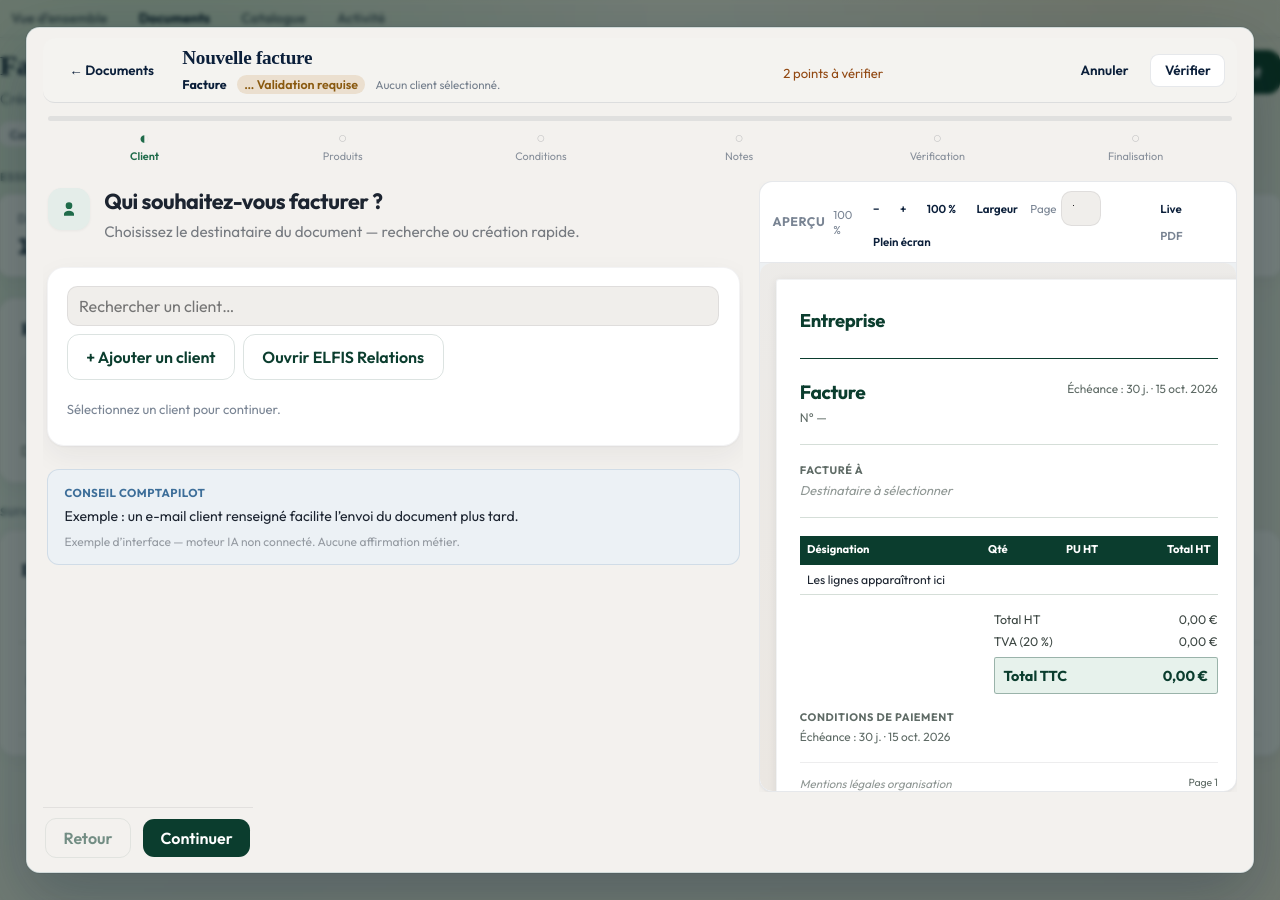
Test: GC11–GC20 Navigation étapes › GC14 — Retour items → client
Click the button "+ Ajouter un client" at (151, 357), box x1=67 y1=334 x2=235 y2=380
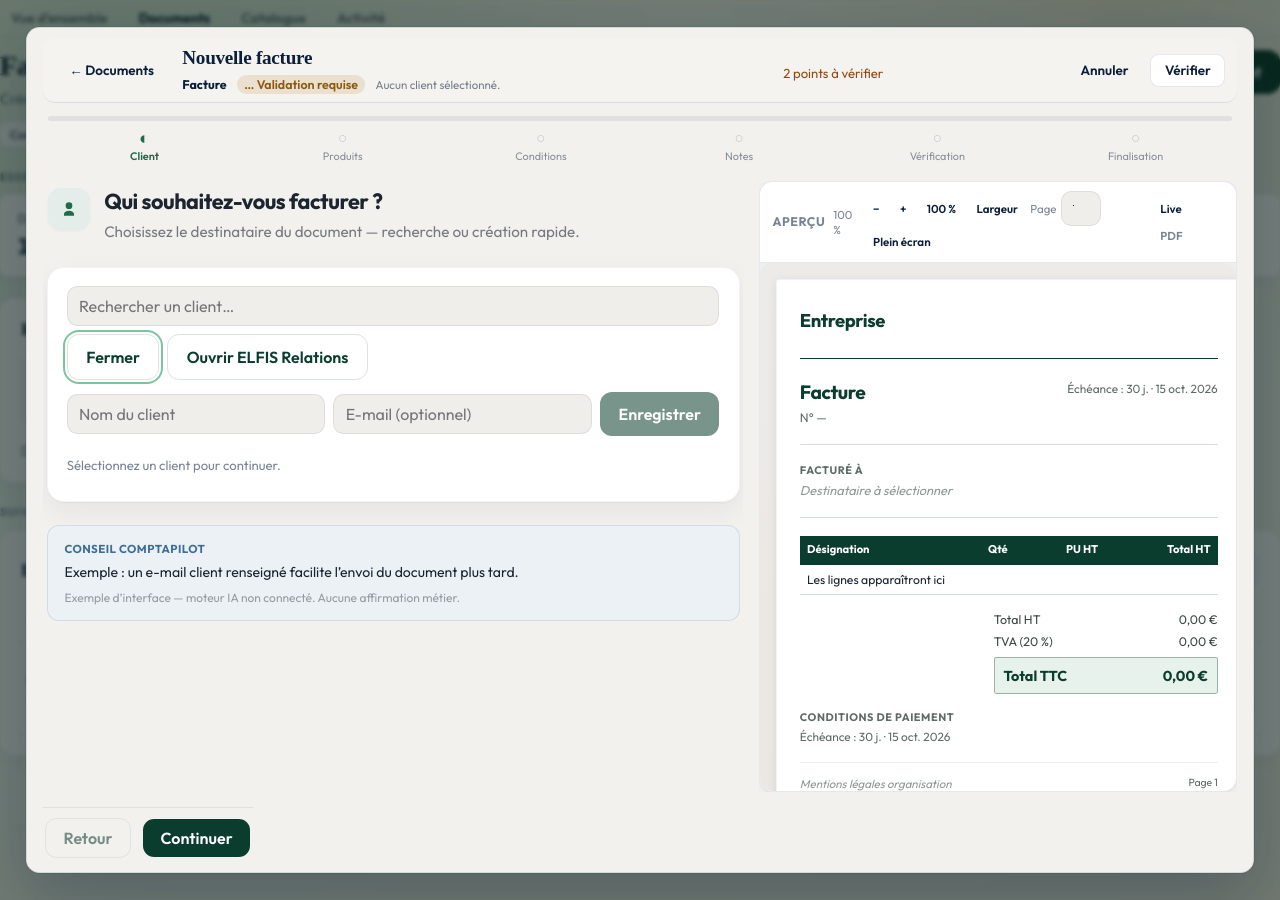
Type "Dupont SAS" into the field named "Nom du nouveau client" at (196, 414), box x1=67 y1=394 x2=326 y2=434
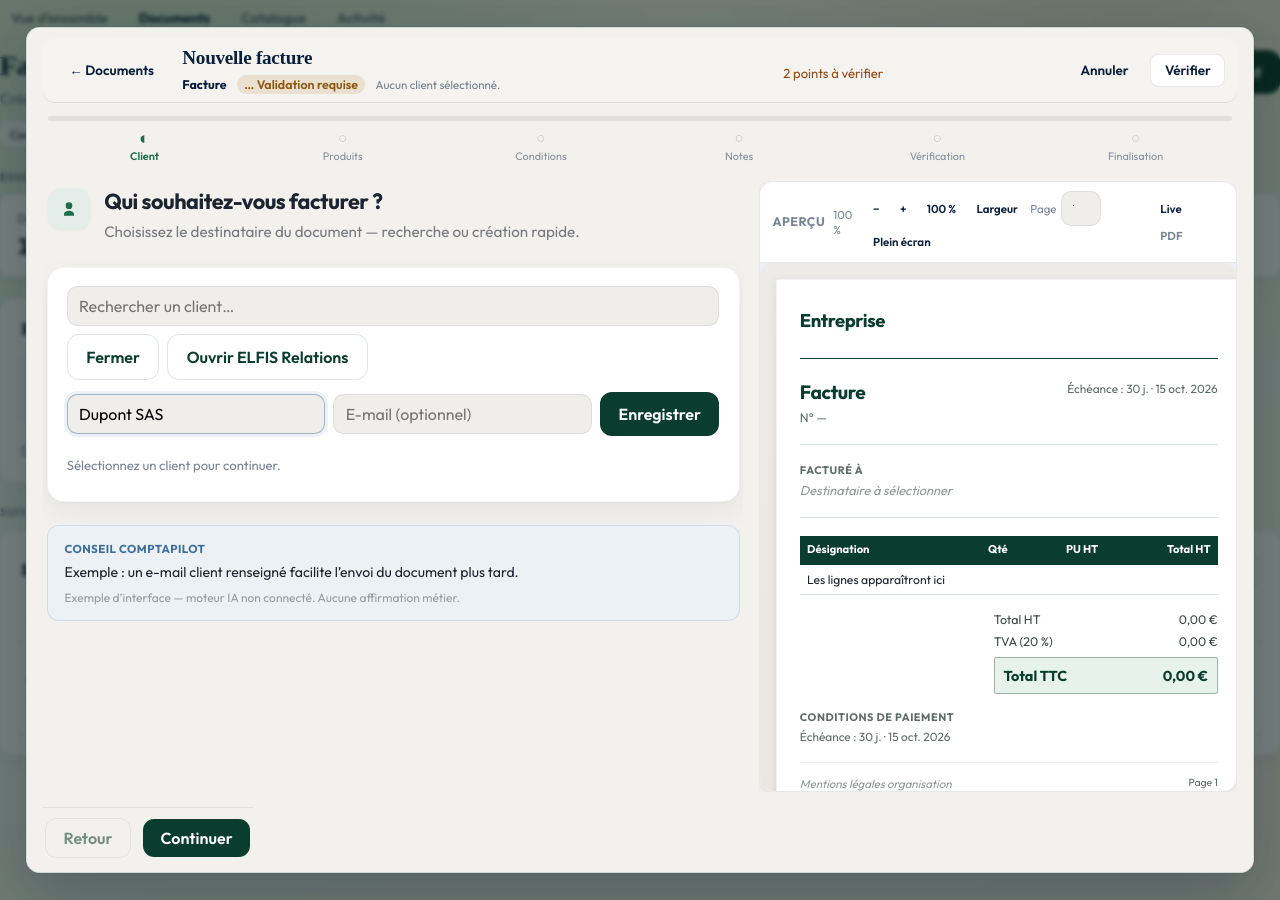
Click the button "Enregistrer" at (660, 414), box x1=600 y1=392 x2=719 y2=436
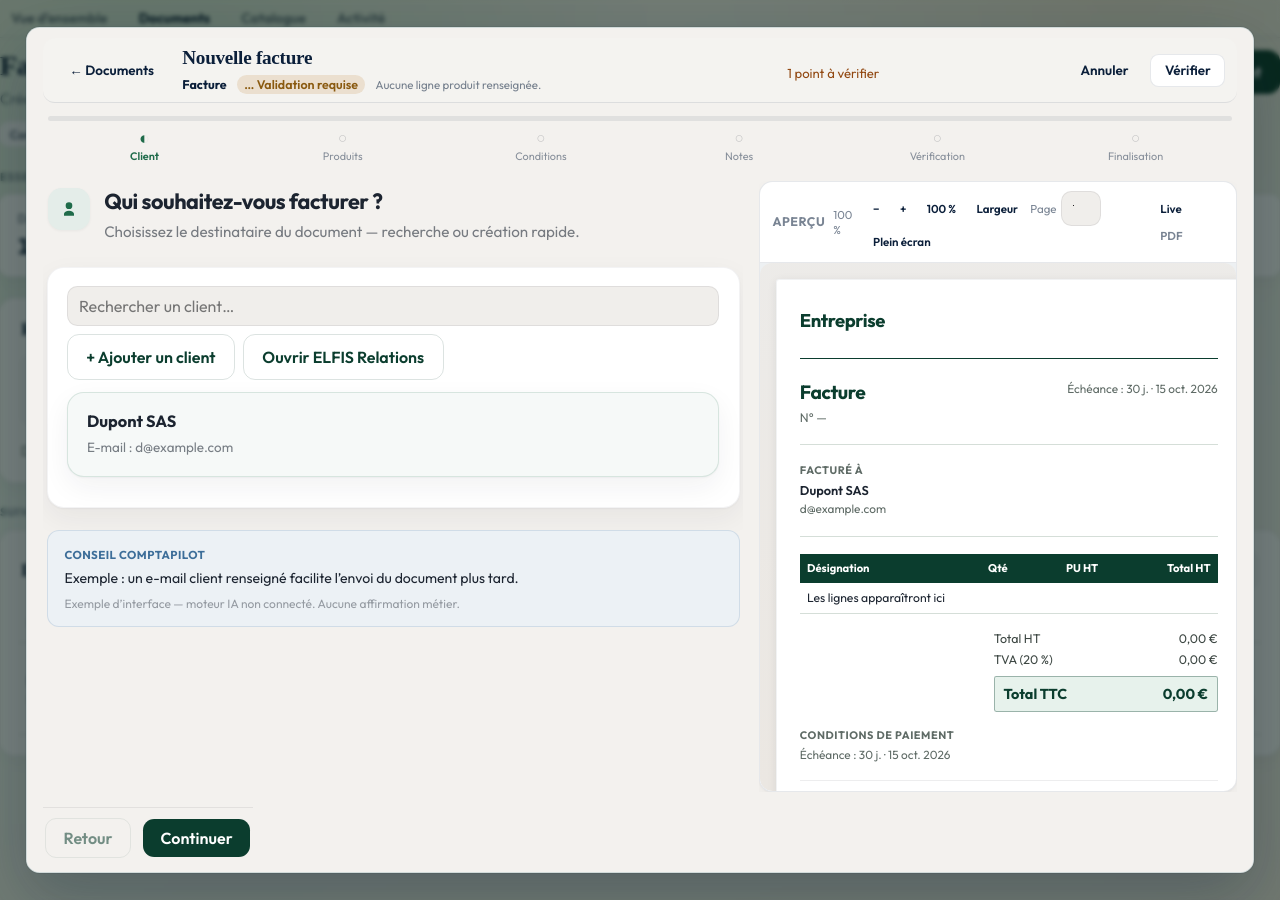
Click the button "Continuer" at (197, 838), box x1=143 y1=819 x2=250 y2=857
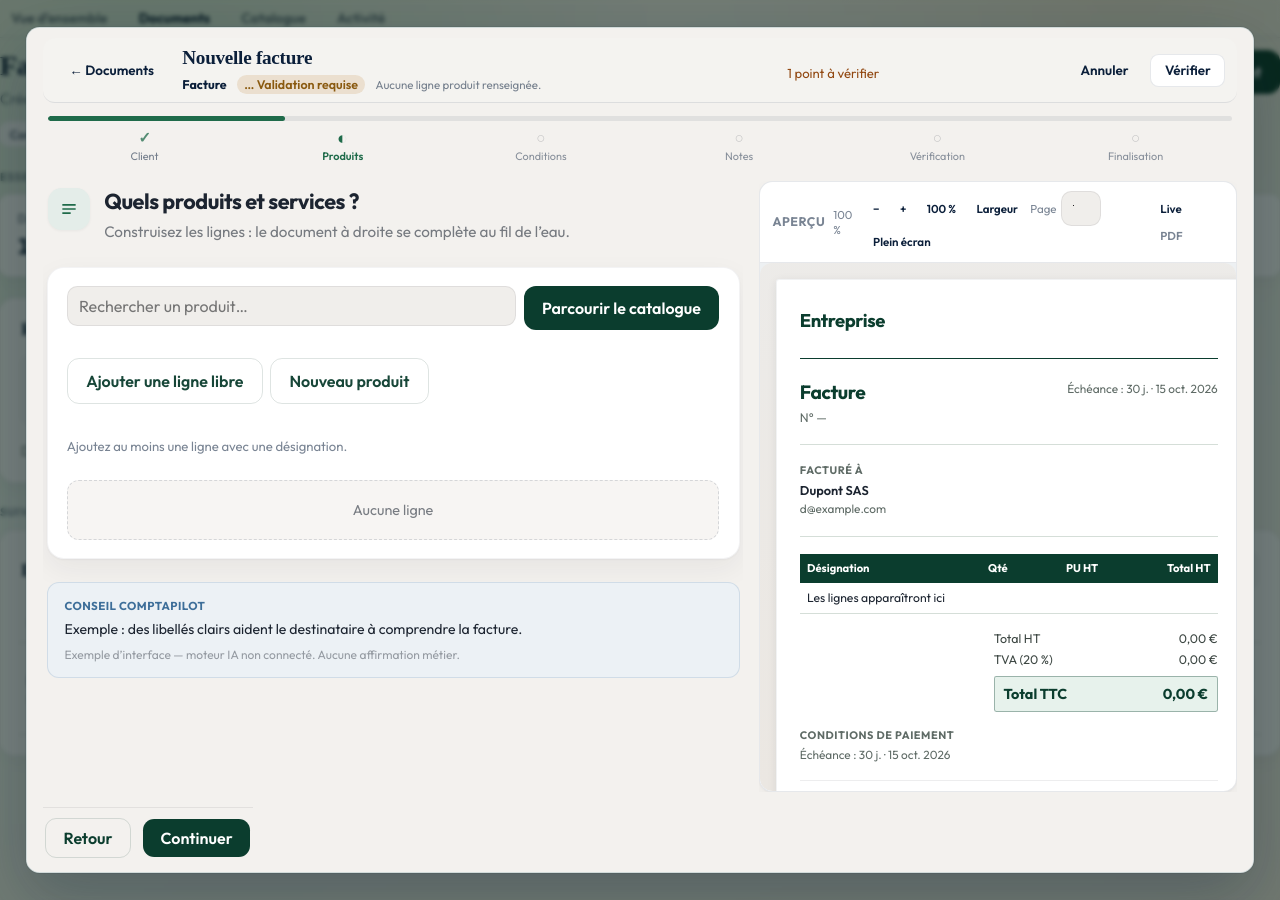
Expected: the heading "Quels produits et services ?" is shown, x1=104 y1=187 x2=359 y2=215
Click the button "Retour" at (88, 838), box x1=45 y1=818 x2=131 y2=858
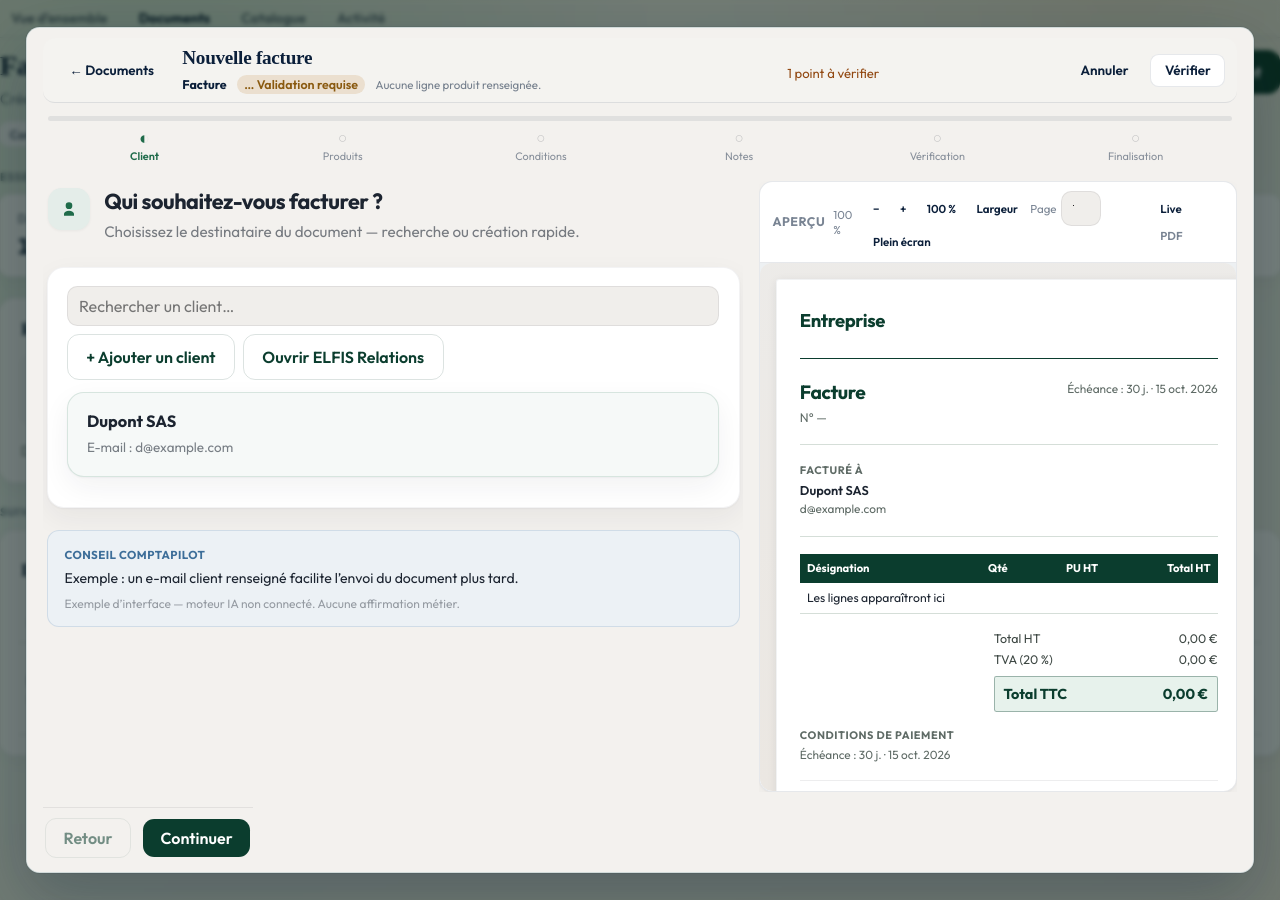
Expected: the heading "Qui souhaitez-vous facturer ?" is shown, x1=104 y1=187 x2=382 y2=215
